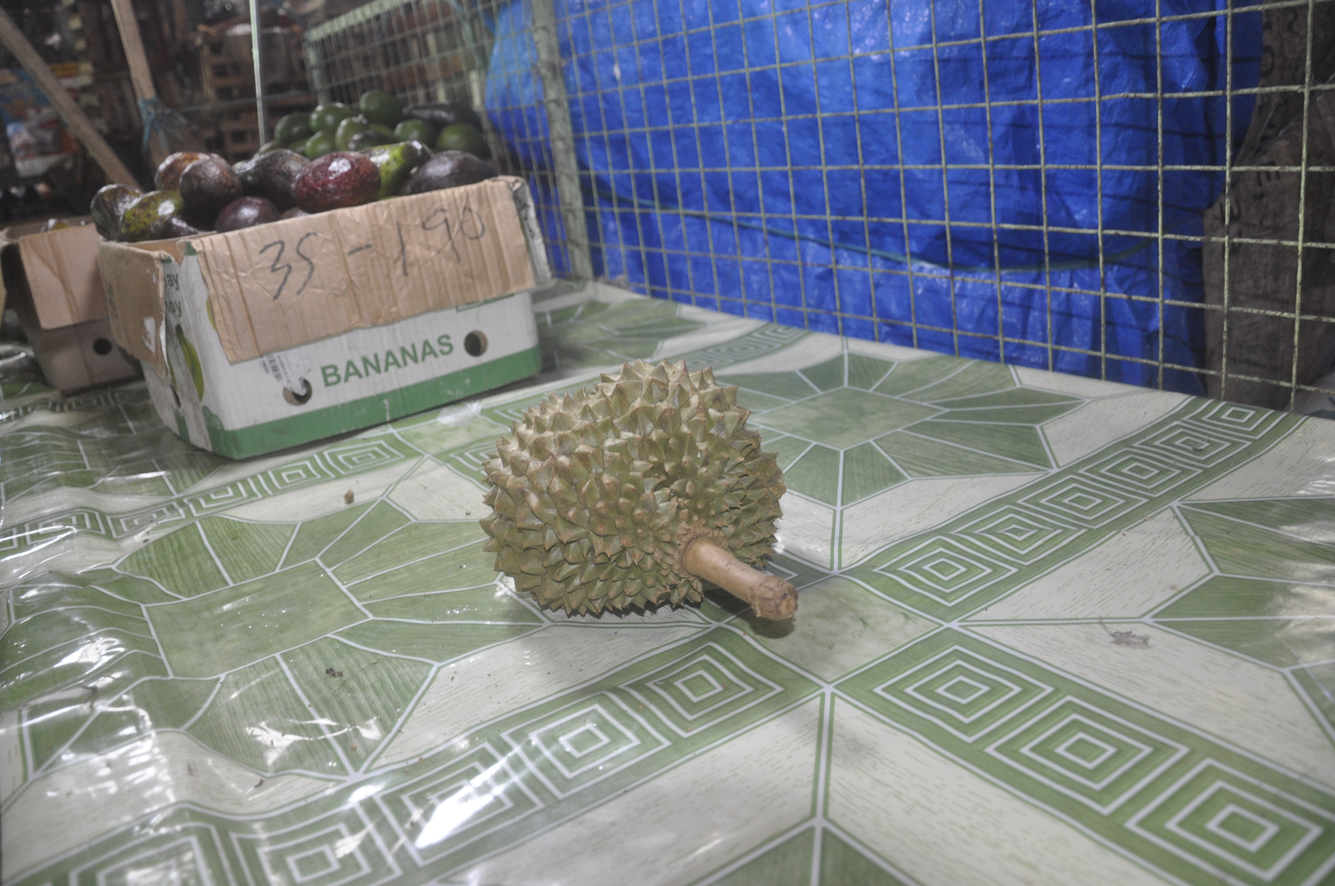mature: (482, 361, 797, 619)
